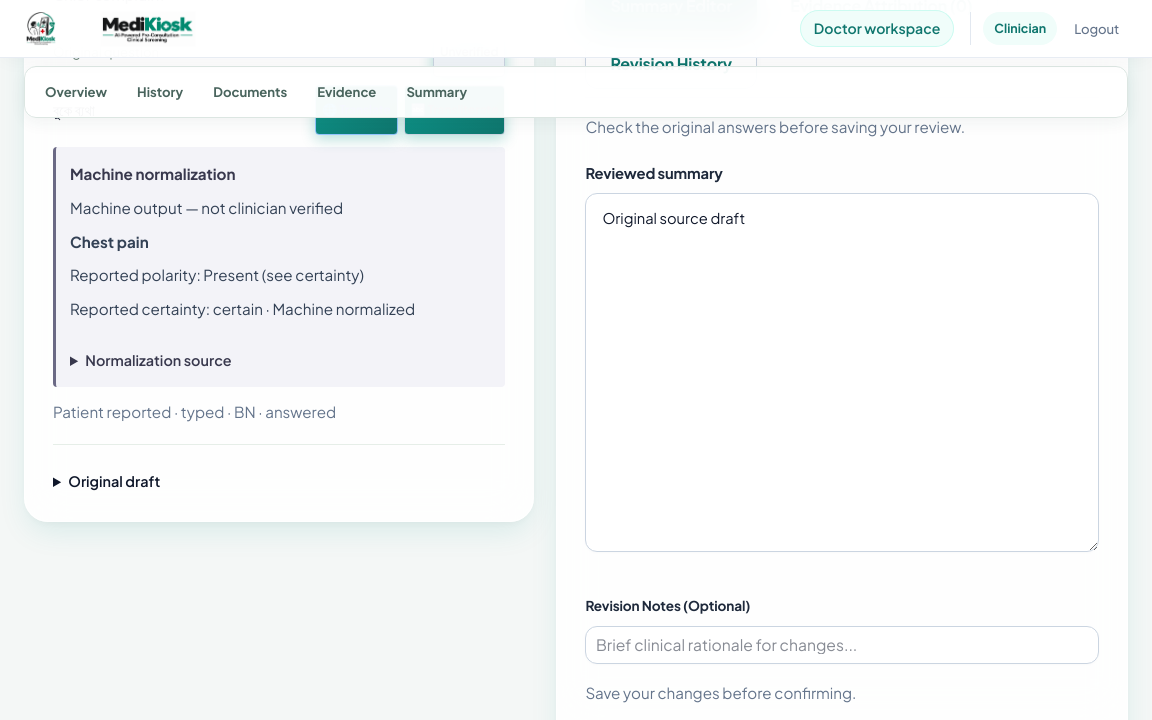
Test case: shows original Bengali wording, canonical label and unverified provenance separately
(page scrolled)
Expected: the text "Chest pain" is shown, [70, 232, 149, 251]
Expected: the text "Machine output — not clinician verified" is shown, [70, 198, 343, 217]
Click the heading "Normalization source" at [159, 360], box [85, 351, 232, 369]
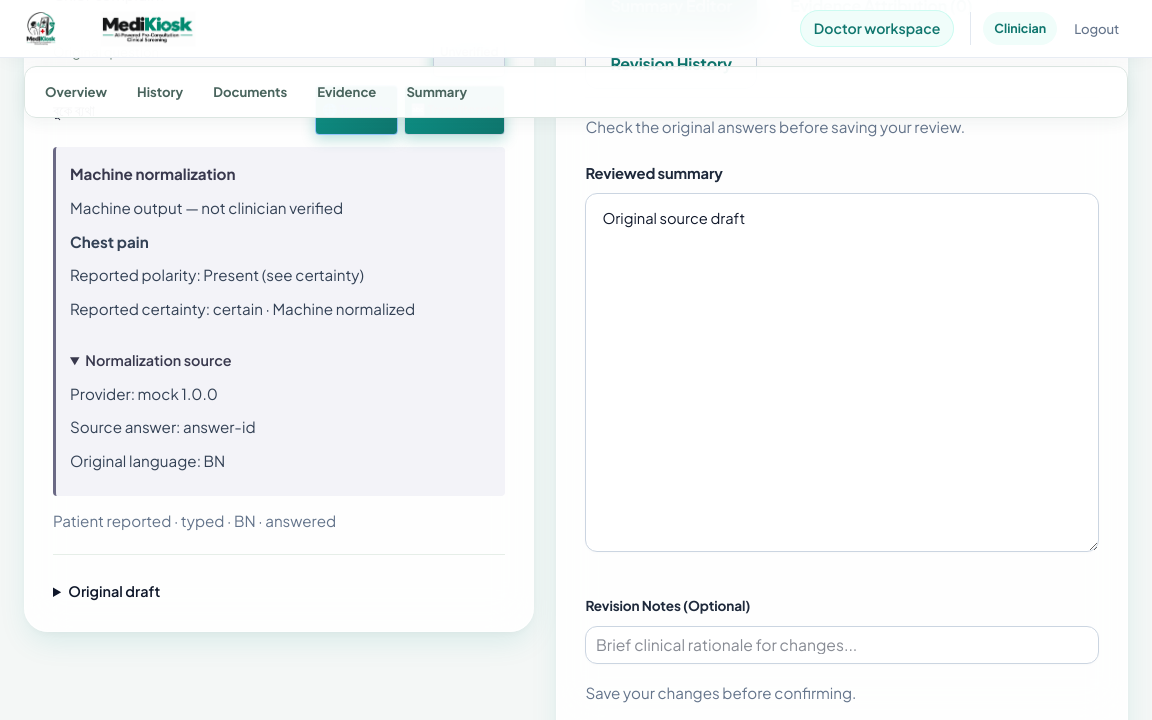
Result: the text "Provider: mock 1.0.0" is shown at [70, 384, 218, 403]
Result: the text "Source answer: answer-id" is shown at [70, 418, 256, 436]
